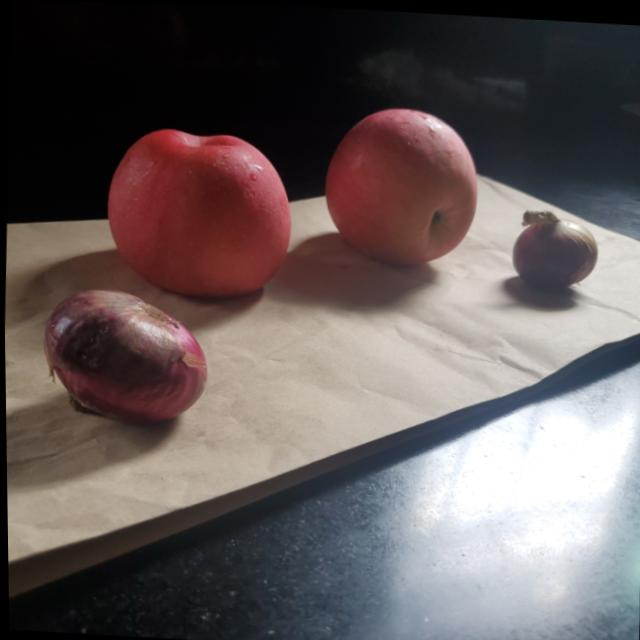apple: (95, 120, 298, 299), (320, 99, 484, 263)
onion: (35, 283, 211, 437), (509, 207, 602, 288)
